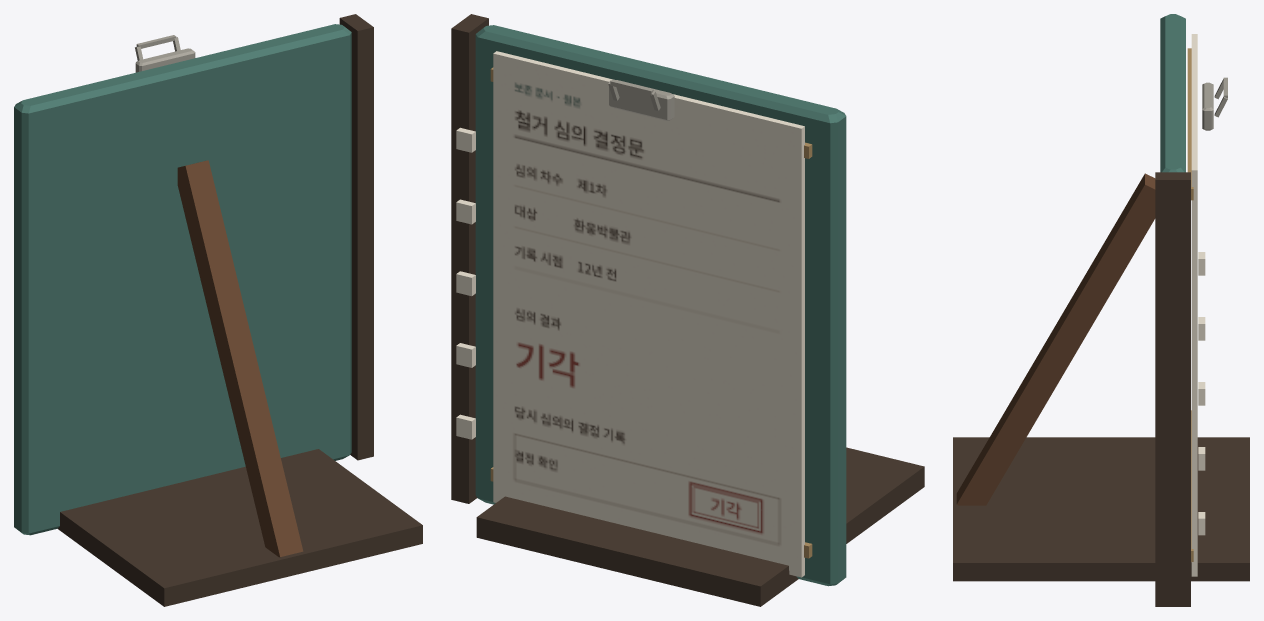
Rendered from C02_First_Demolition_Decision.fbx.
3 renders of one model, left to right at view 1: azimuth 30°, elevation 25°; view 2: azimuth 150°, elevation 25°; view 3: azimuth 270°, elevation 25°, orthographic. The views are drawn at different scales.
Visible parts, largest first — view 1: Archive_Folder, Paper_Clip; view 2: Front_Decision_Page, Archive_Folder, Paper_Clip; view 3: Archive_Folder, Front_Decision_Page, Paper_Clip.
Boxes of the visible parts, x1,y1,x2,y2 form: Archive_Folder: (14,14,422,606); Paper_Clip: (135,35,195,72); Front_Decision_Page: (493,51,804,577); Archive_Folder: (451,14,924,606); Paper_Clip: (608,79,674,120); Archive_Folder: (953,14,1249,606); Front_Decision_Page: (1191,34,1197,576); Paper_Clip: (1202,77,1227,130).
Size of the model in its own units: 0.389 by 0.4657 by 0.29.
Materials: 7 (1 with a texture image).
